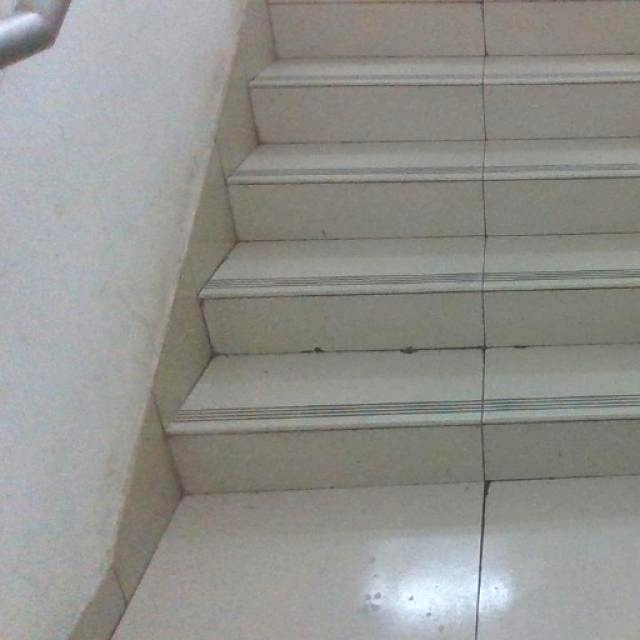stair: (123, 8, 635, 502)
